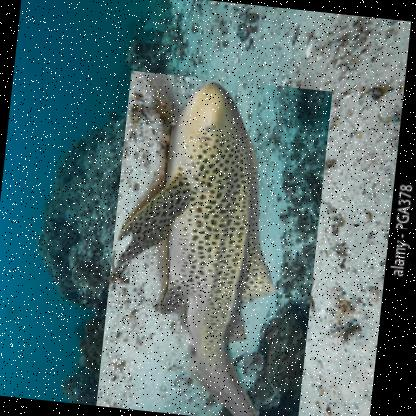zebra_shark: (96, 68, 335, 415)
